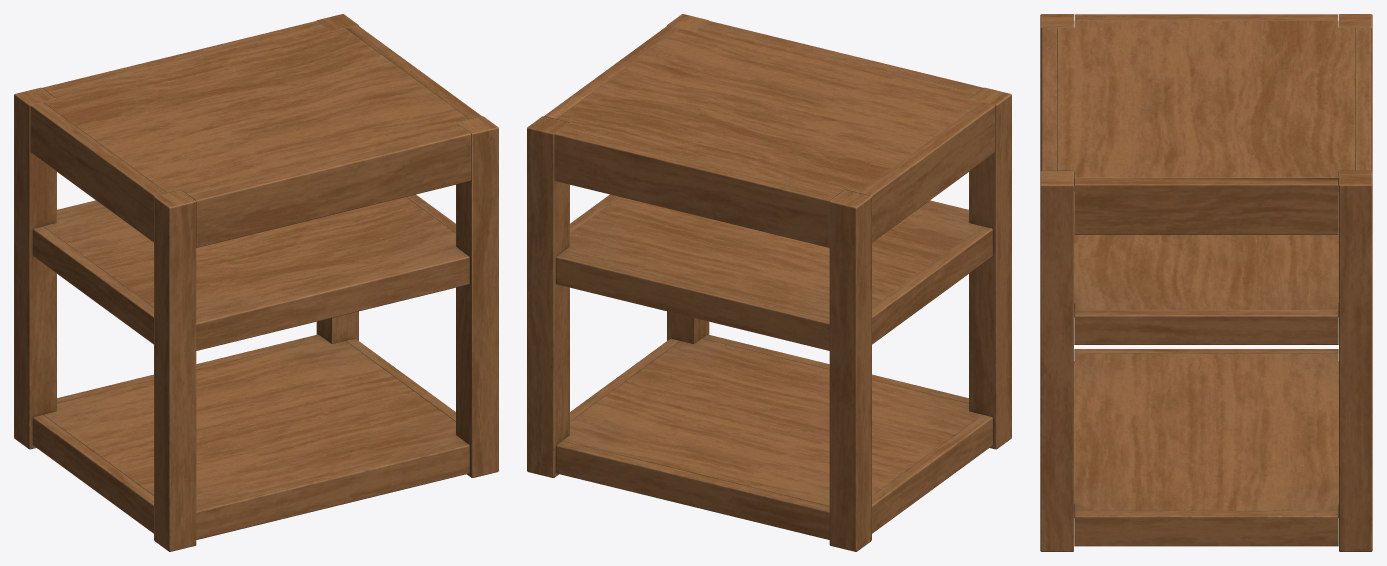
File: oak-side-table.glb
3 views of the same model, side by side, from view 1: azimuth 30°, elevation 25°; view 2: azimuth 150°, elevation 25°; view 3: azimuth 270°, elevation 25° (orthographic). The views are drawn at different scales.
Parts seen in each view (by area): view 1: side_table_01; view 2: side_table_01; view 3: side_table_01.
Boxes of the visible parts, box(x1,y1,x2,y2) form: side_table_01: box(14, 14, 498, 551); side_table_01: box(527, 14, 1011, 551); side_table_01: box(1040, 14, 1372, 551).
Size of the model in its own units: 0.55 by 0.5507 by 0.45.
Materials: 1 (1 with a texture image).
